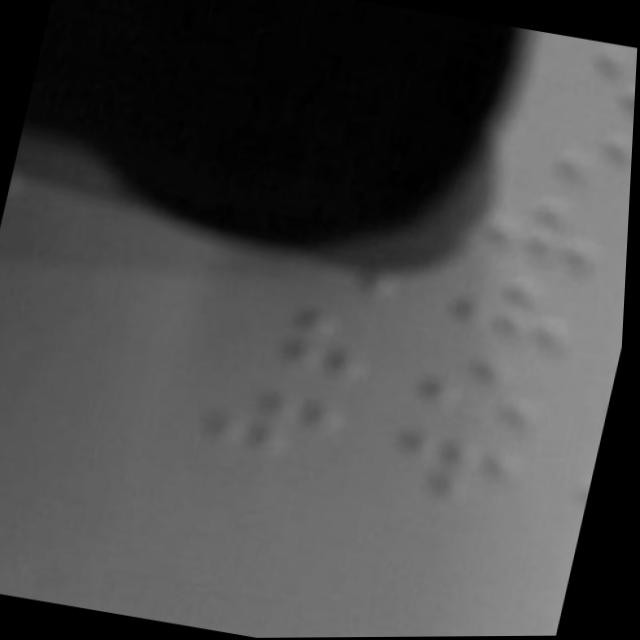braiile: (402, 334, 571, 439), (194, 373, 364, 468), (470, 178, 627, 280), (438, 257, 600, 355), (224, 292, 391, 387), (380, 415, 537, 511), (500, 100, 636, 196), (520, 29, 639, 121)
